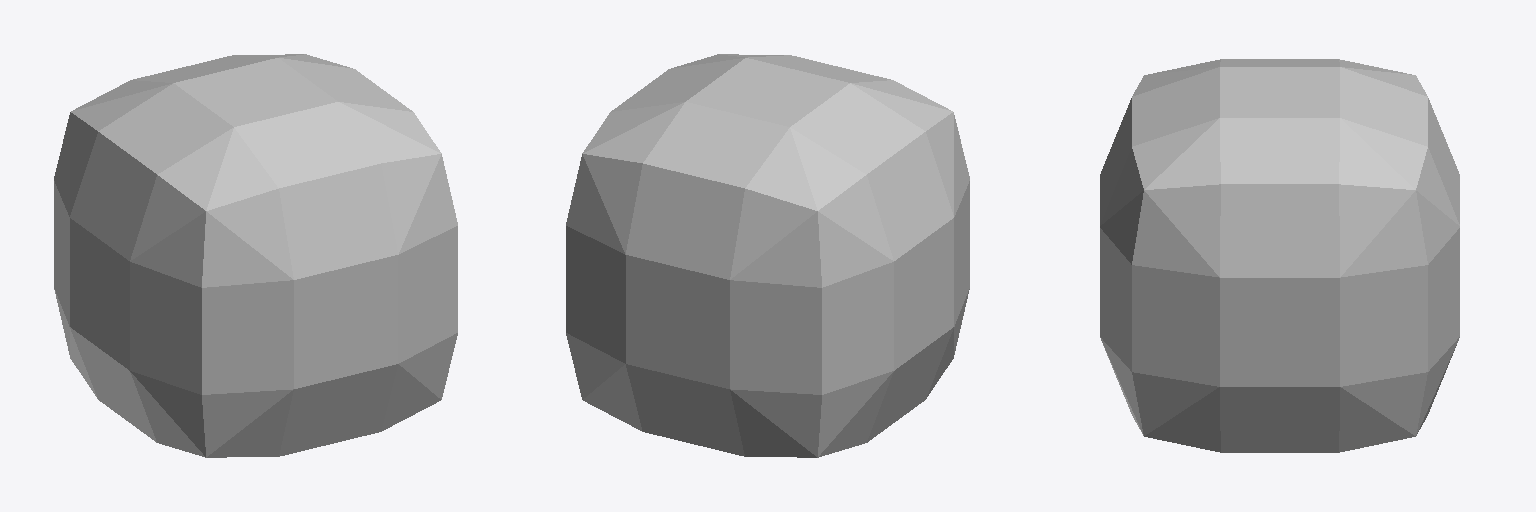
Rendered from cube_grid_smoothed_10.obj.
3 views of the same model, side by side, from view 1: azimuth 30°, elevation 25°; view 2: azimuth 150°, elevation 25°; view 3: azimuth 270°, elevation 25° (orthographic).
Bounding box in the file's own units: 1.73 × 1.73 × 1.73.